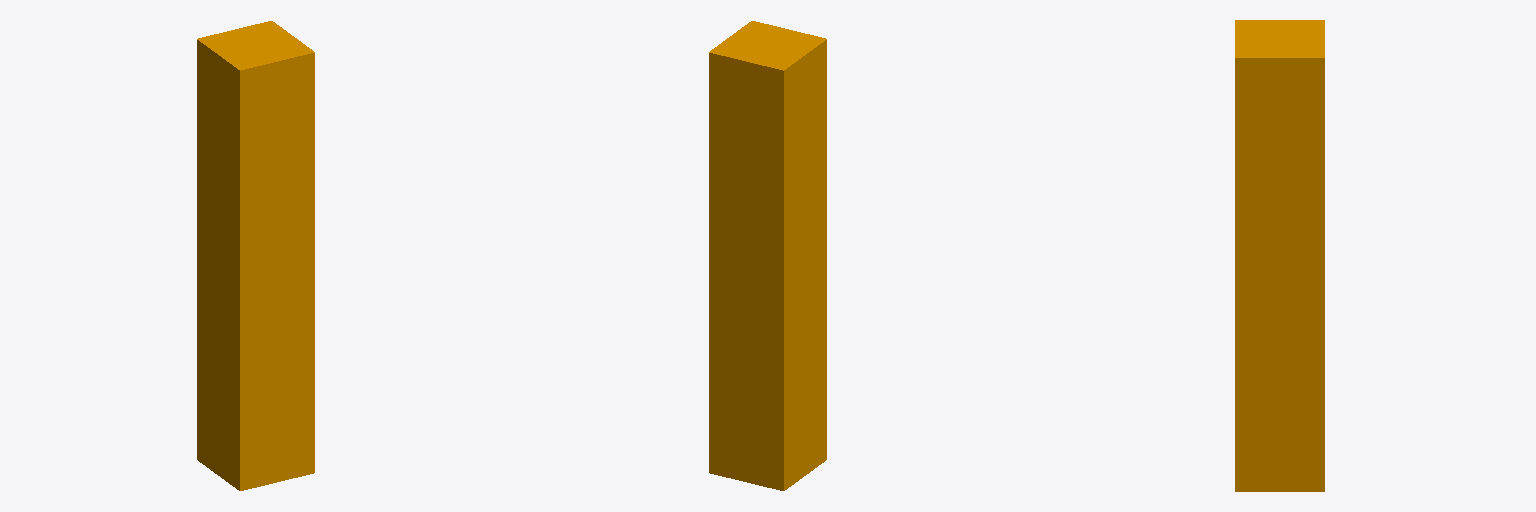
robot.urdf — box:
<?xml version='1.0' encoding='UTF-8'?>
<robot name="box">
  <link name="base_link">
    <inertial>
      <origin xyz="0.0 0.0 0.0" rpy="0.0 -0.0 0.0"/>
      <mass value="1.0"/>
      <inertia ixx="1.0" ixy="0.0" ixz="0.0" iyy="1.0" iyz="0.0" izz="1.0"/>
    </inertial>
    <visual name="base_link_visual">
      <geometry>
        <box size="0.75 0.75 4.0"/>
      </geometry>
      <origin xyz="0 0 0" rpy="0 0 0"/>
    </visual>
    <collision name="base_link_collision">
      <geometry>
        <box size="0.75 0.75 4.0"/>
      </geometry>
      <origin xyz="0 0 0" rpy="0 0 0"/>
    </collision>
  </link>
</robot>

--- Render facts (derived) ---
Views: 3 orthographic renders of the robot side by side, from view 1: azimuth 30°, elevation 25°; view 2: azimuth 150°, elevation 25°; view 3: azimuth 270°, elevation 25°.
Robot: box — 1 links, 0 joints (none); root link base_link; default pose: every joint at zero.
Links seen in each view (by area): view 1: base_link; view 2: base_link; view 3: base_link.
Link boxes in pixels (x1,y1,x2,y2): base_link: (197, 21, 314, 490); base_link: (709, 21, 826, 490); base_link: (1235, 20, 1324, 491).
Bounding box of the posed robot: 0.75 × 0.75 × 4 m (x, y, z).
Geometry: primitives only (box / cylinder / sphere), no mesh files.